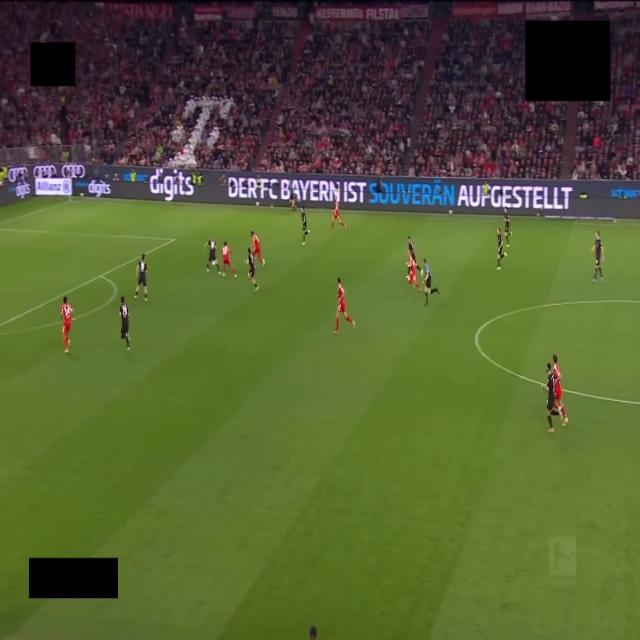player: (334, 278, 354, 334), (542, 363, 558, 432), (553, 355, 568, 425), (60, 296, 74, 353), (590, 232, 603, 283), (134, 254, 147, 301), (119, 296, 129, 351), (205, 238, 220, 274), (222, 241, 236, 277), (251, 231, 264, 265), (408, 237, 421, 271), (497, 227, 507, 270), (248, 248, 258, 291), (408, 256, 420, 291), (332, 200, 345, 230), (301, 206, 308, 245), (504, 208, 510, 247)
referee: (423, 258, 438, 305)
